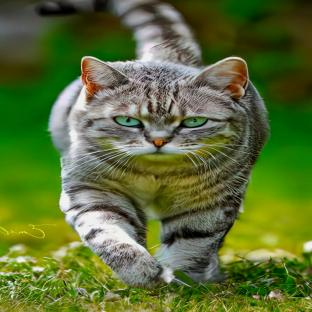Animal: (49, 0, 270, 288)
